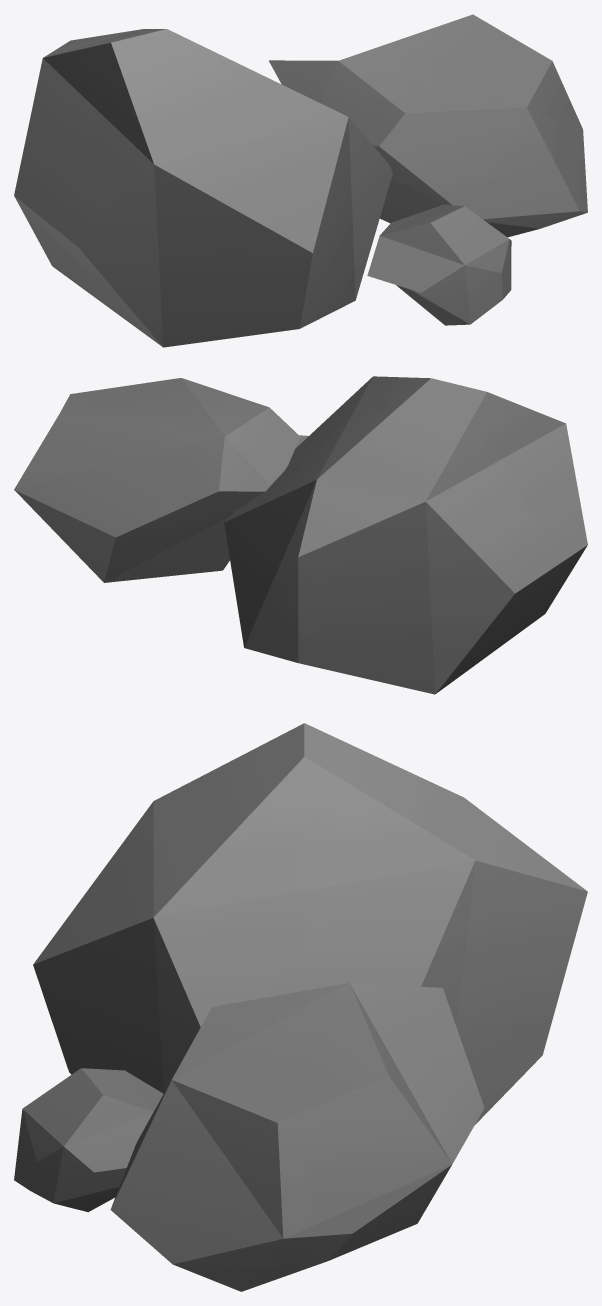
Rendered from rocks4.glb.
The picture shows the model from 3 angles, top to bottom: view 1: azimuth 30°, elevation 25°; view 2: azimuth 150°, elevation 25°; view 3: azimuth 270°, elevation 25°; orthographic projection. The views are drawn at different scales.
Visible parts, largest first — view 1: rocks4; view 2: rocks4; view 3: rocks4.
Part boxes in pixels (bbox=[...]): rocks4: bbox=[14, 14, 587, 347]; rocks4: bbox=[14, 376, 587, 694]; rocks4: bbox=[14, 723, 587, 1291].
Size of the model in its own units: 1.07 by 0.518 by 0.817.
1 material, 1 textured.
